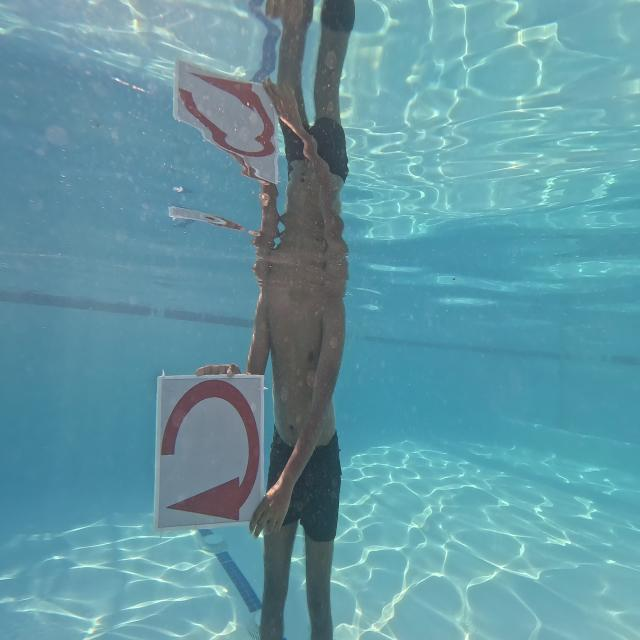red_side: (154, 368, 264, 525)
